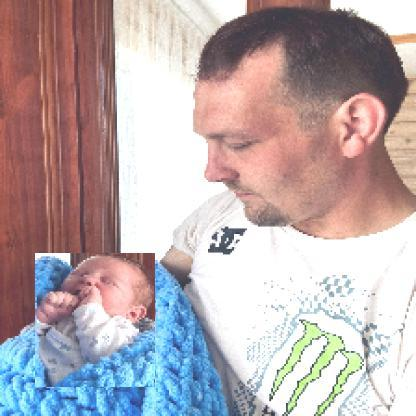child: (36, 254, 157, 389)
